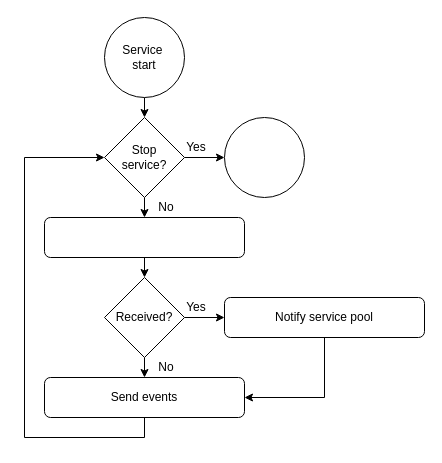
This 442x463 diagram has some shape labels left out. The centre of each missing label's shape, as x and y in pixels:
"Service stop" belongs at point (264, 157).
"Wait for and receive events" belongs at point (144, 237).
